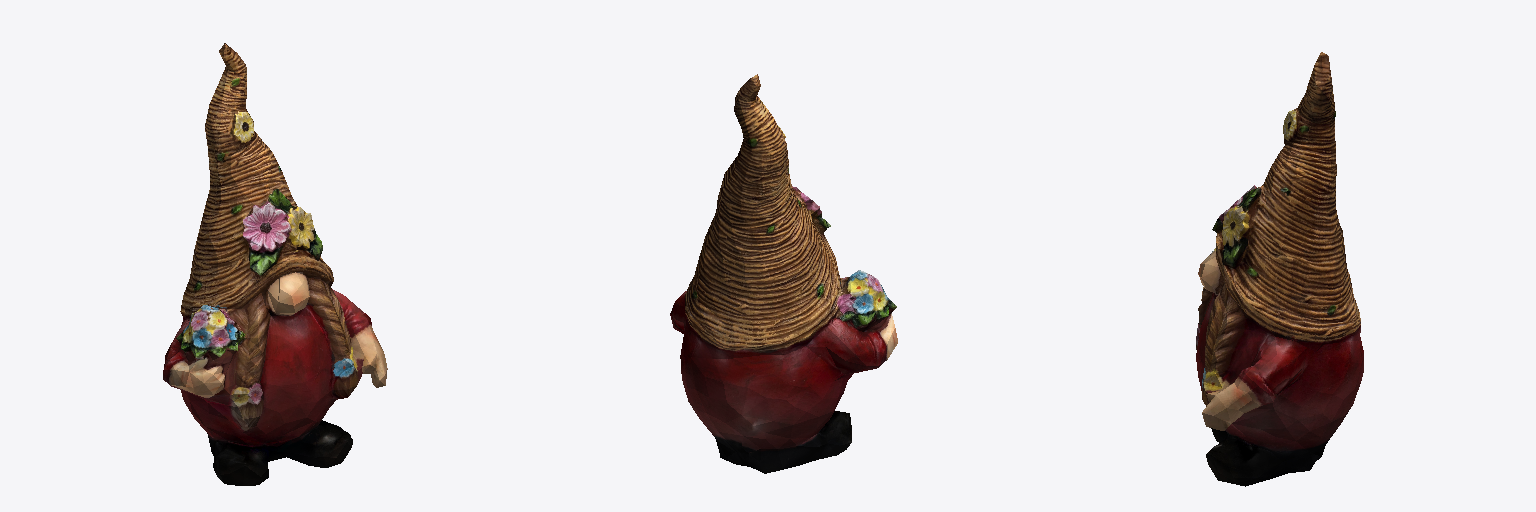
The picture shows the model from 3 angles: view 1: azimuth 30°, elevation 25°; view 2: azimuth 150°, elevation 25°; view 3: azimuth 270°, elevation 25°; orthographic projection.
Size of the model in its own units: 0.146 by 0.2674 by 0.1025.
Materials: 1 (1 with a texture image).